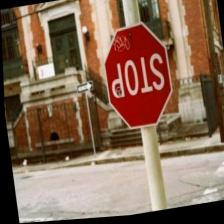Stop: (98, 24, 174, 134)
